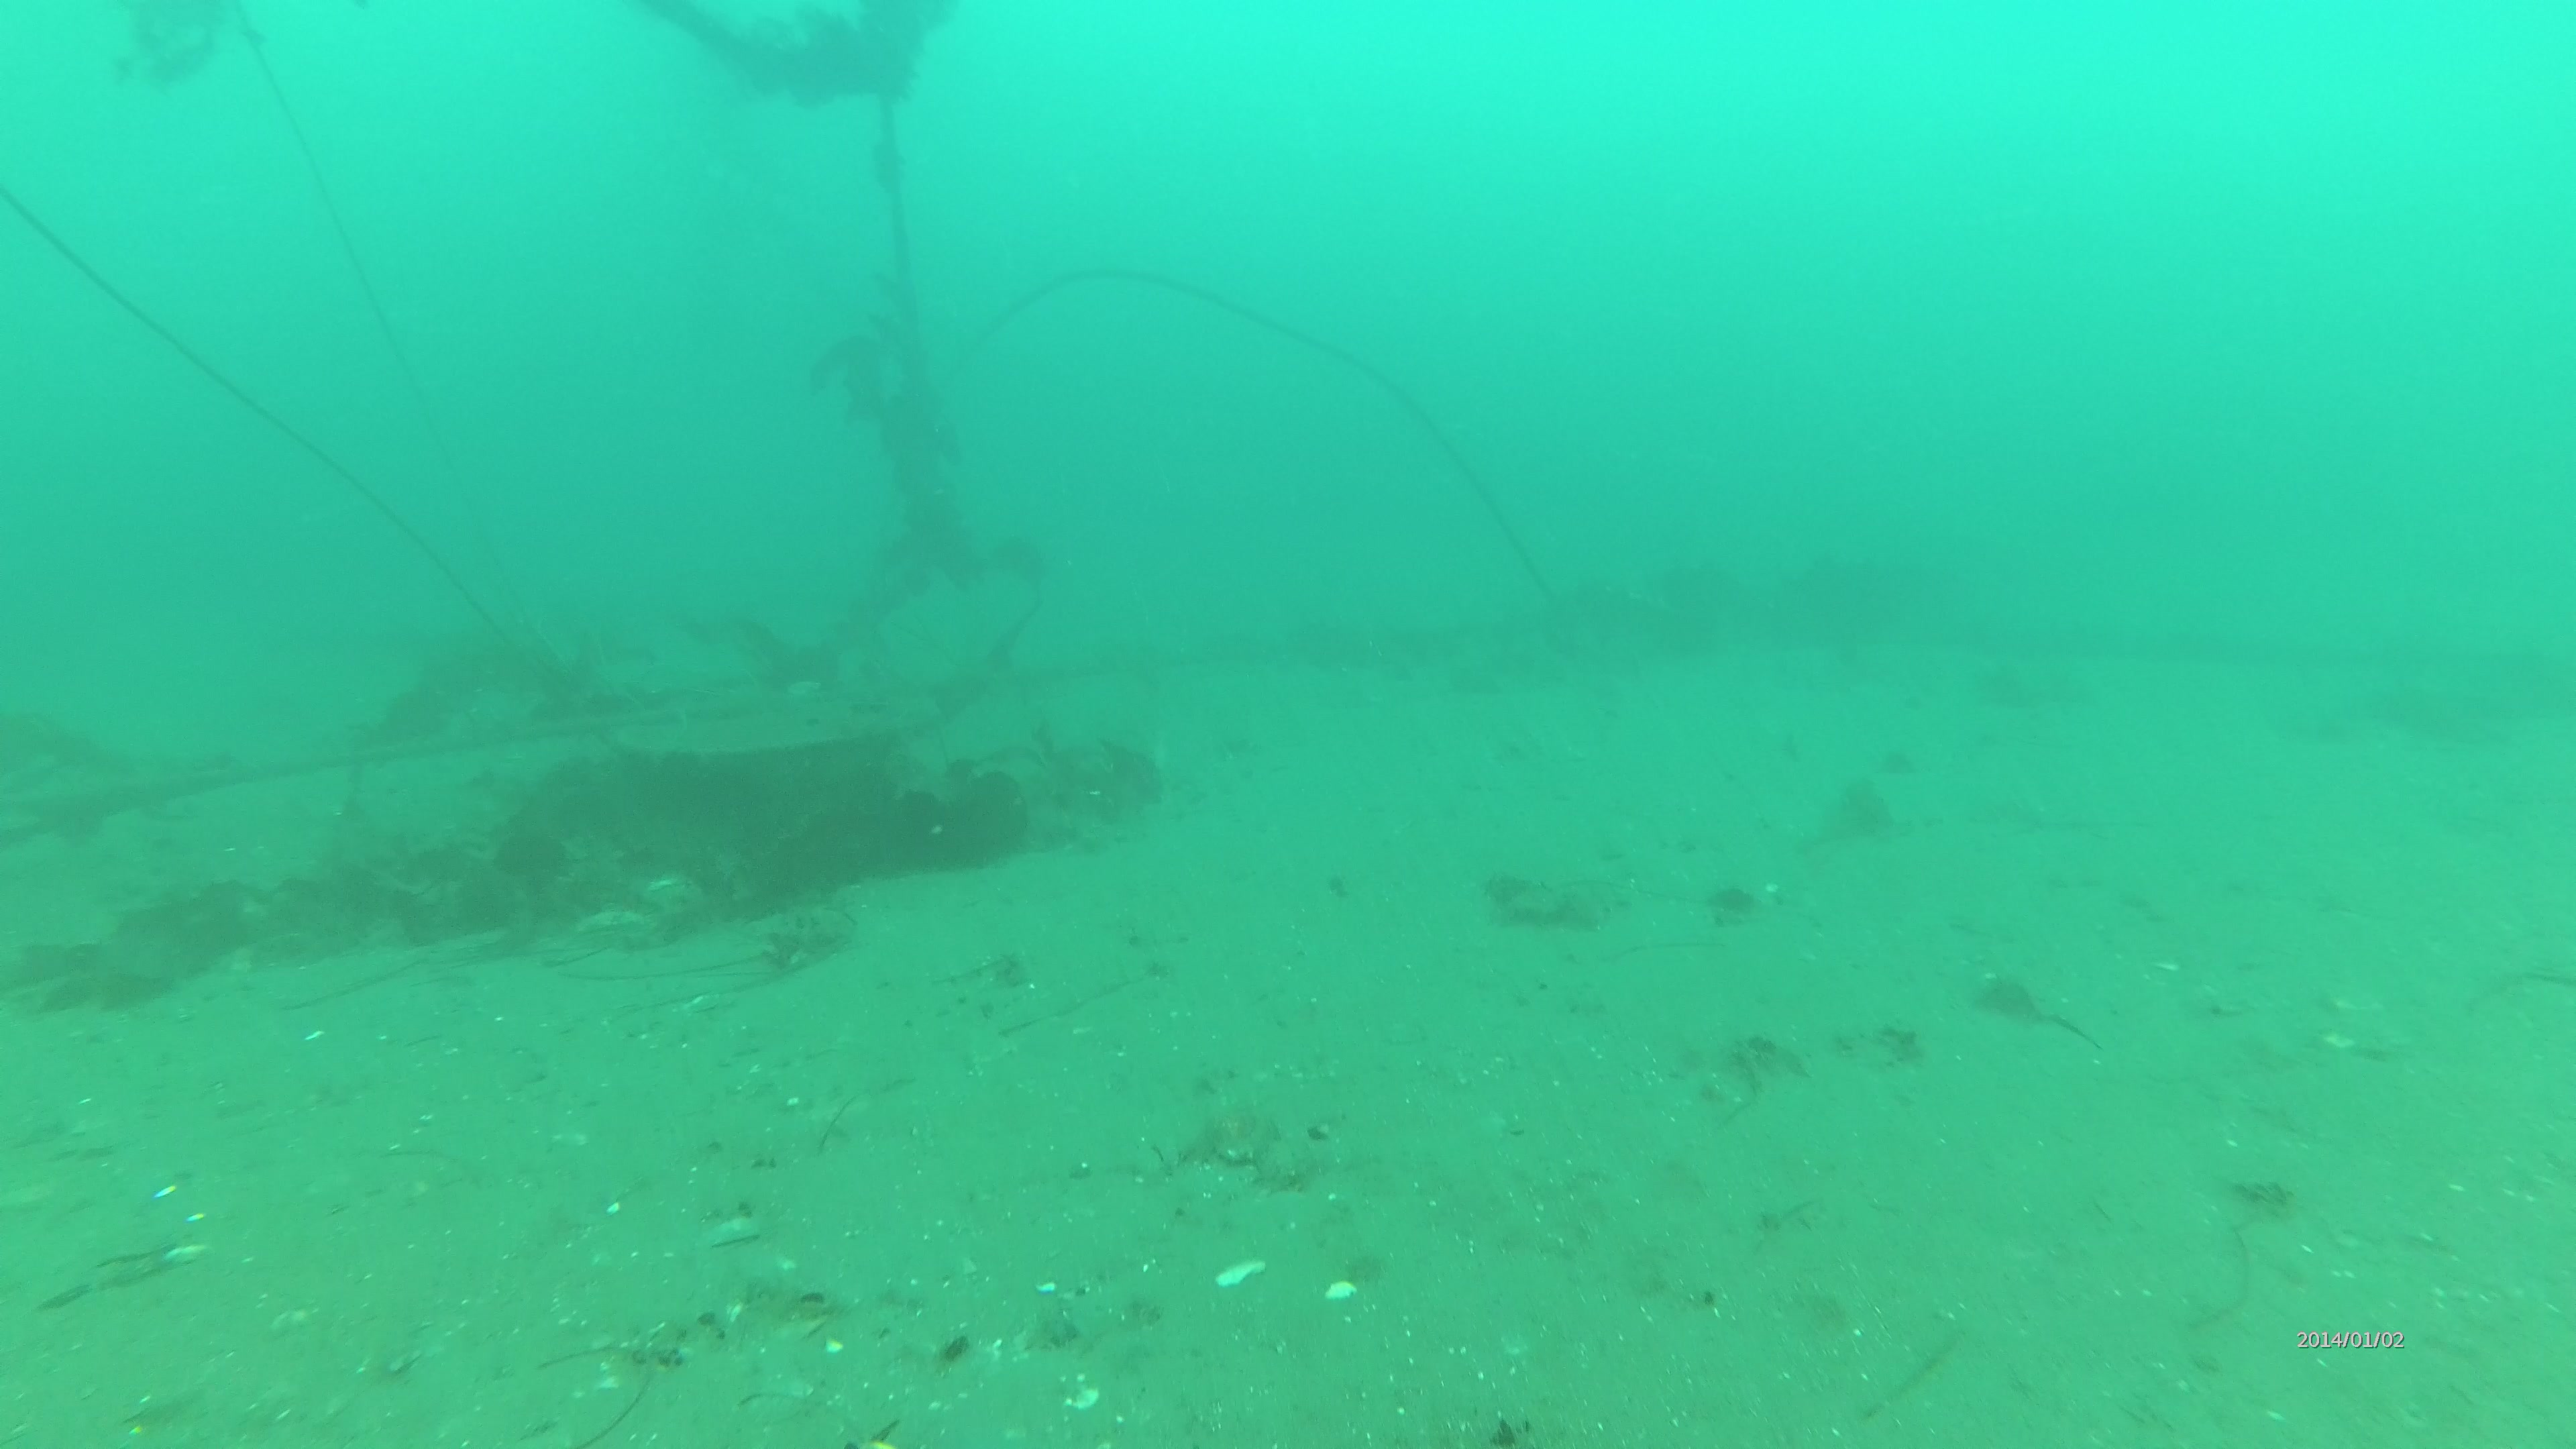scallop: (1210, 1254, 1276, 1299), (1056, 1371, 1104, 1414), (1316, 1274, 1366, 1304)
